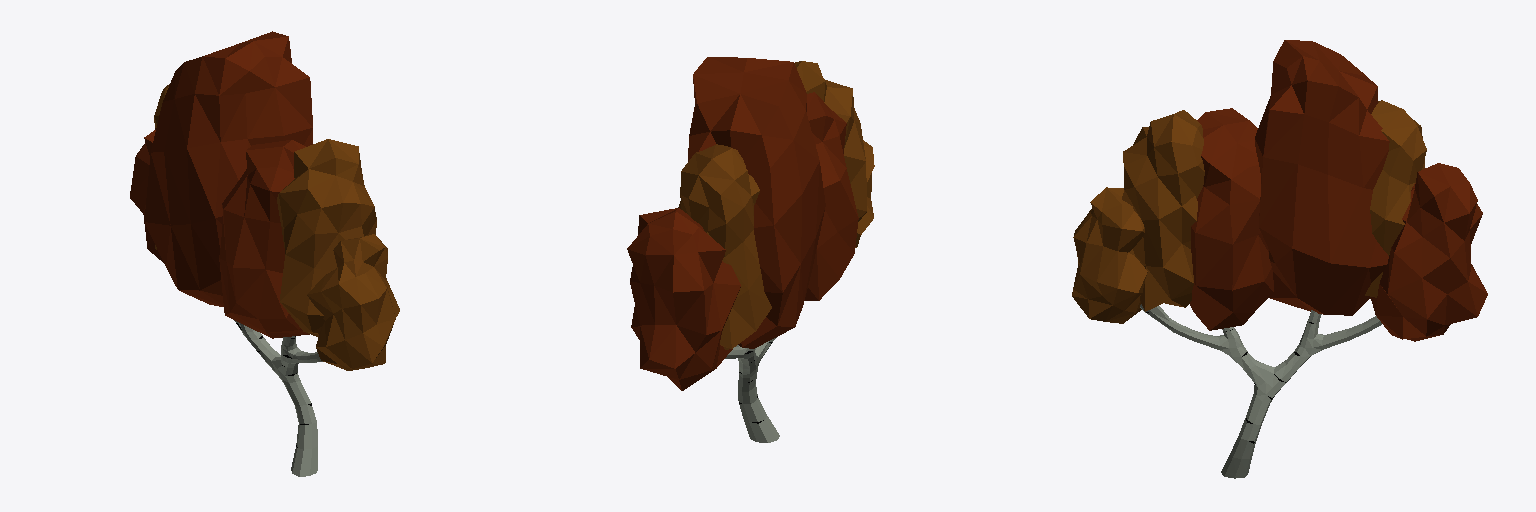
Rendered from BirchTree_Autumn_4_Cube.obj.
3 views of the same model, side by side, from view 1: azimuth 30°, elevation 25°; view 2: azimuth 150°, elevation 25°; view 3: azimuth 270°, elevation 25° (orthographic).
Visible parts, largest first — view 1: BirchTree_Autumn_4_Cube.081; view 2: BirchTree_Autumn_4_Cube.081; view 3: BirchTree_Autumn_4_Cube.081.
Part boxes in pixels (x1,y1,x2,y2): BirchTree_Autumn_4_Cube.081: (130,31,399,476); BirchTree_Autumn_4_Cube.081: (627,57,874,442); BirchTree_Autumn_4_Cube.081: (1072,40,1487,478).
Bounding box in the file's own units: 1.15 × 3.56 × 3.29.